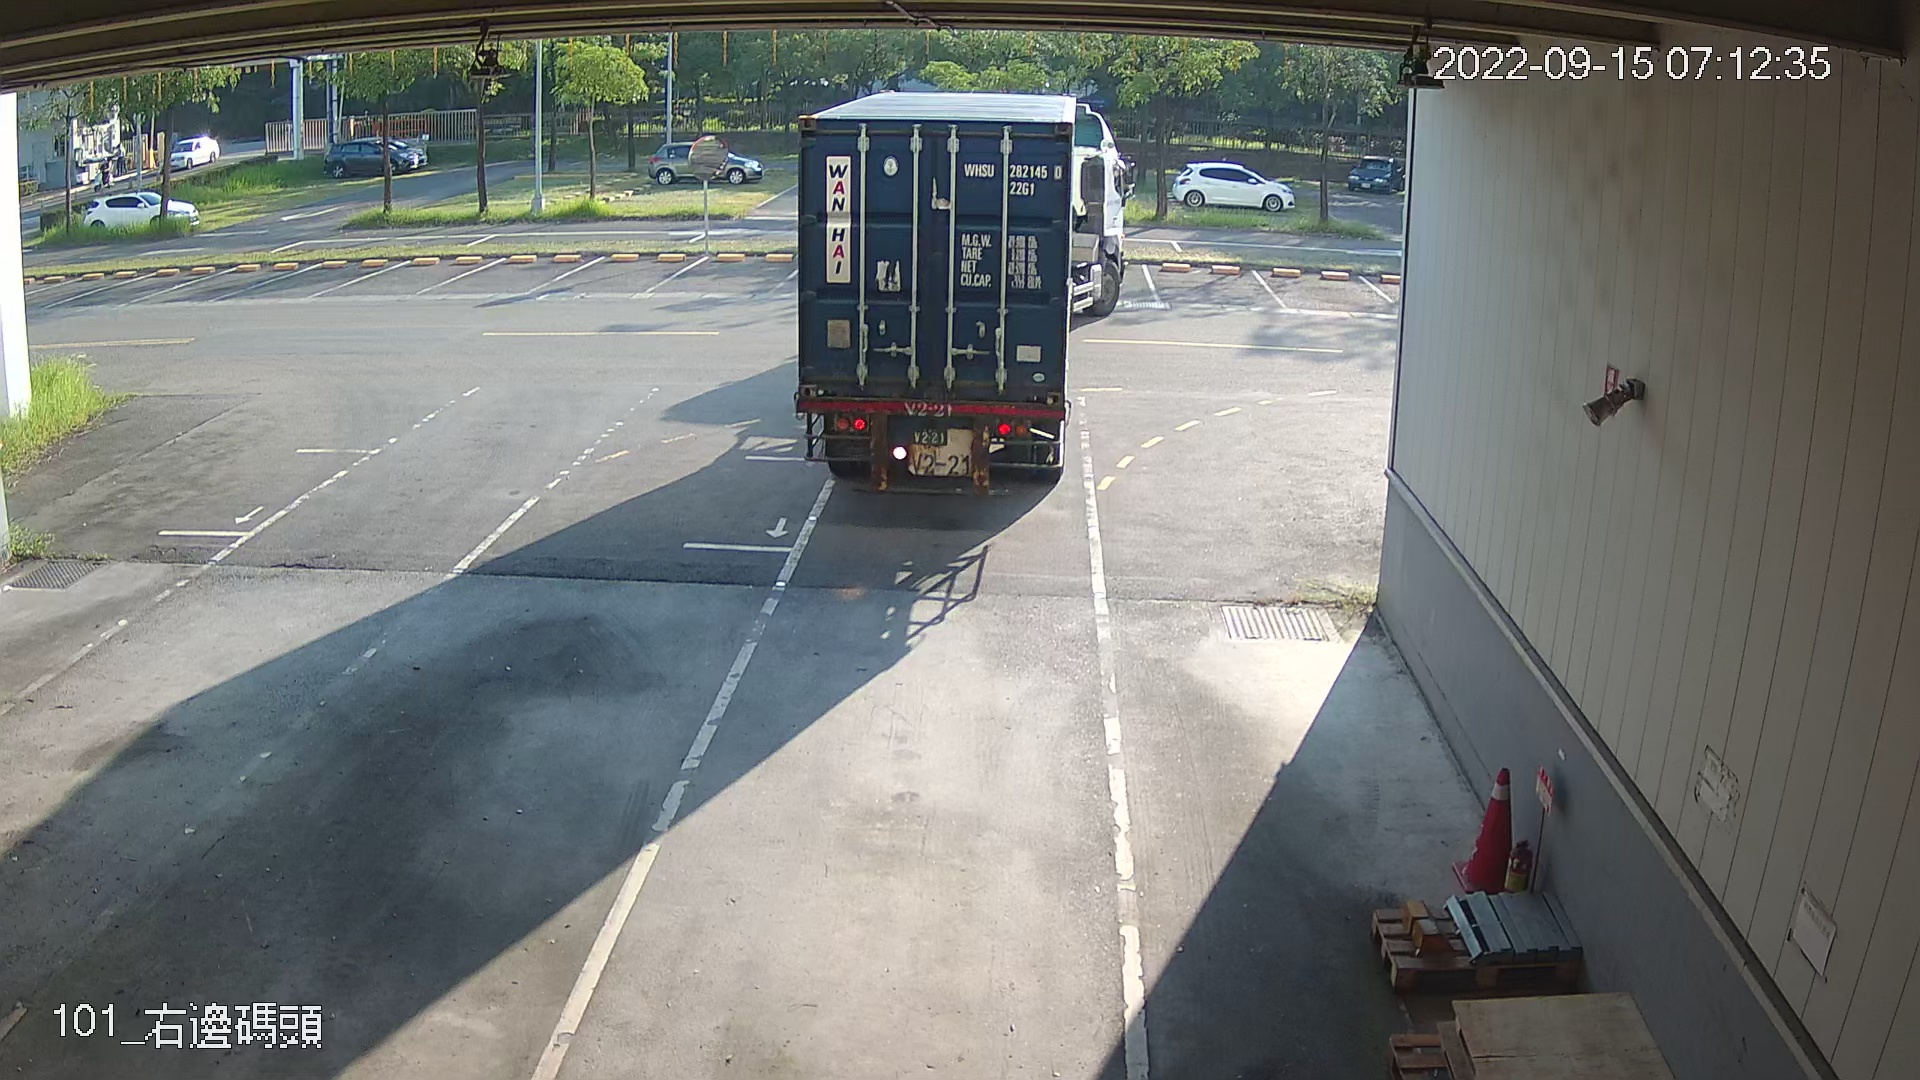container: (960, 157, 1067, 200)
